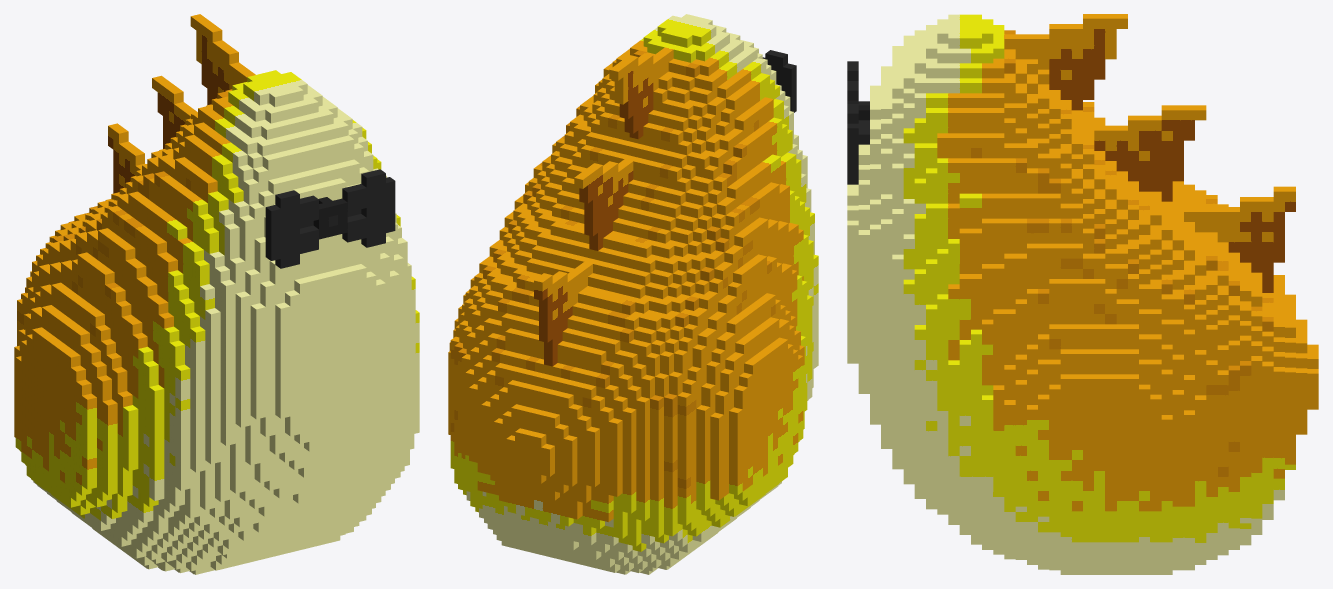
The model's file is black bow tie.gltf.
3 renders of one model, left to right at view 1: azimuth 30°, elevation 25°; view 2: azimuth 150°, elevation 25°; view 3: azimuth 270°, elevation 25°, orthographic. The views are drawn at different scales.
Visible parts, largest first — view 1: 01_Body_BowTie-Mesh; view 2: 01_Body_BowTie-Mesh; view 3: 01_Body_BowTie-Mesh.
Part boxes in pixels (box(x1,y1,x2,y2)): 01_Body_BowTie-Mesh: box(14, 14, 419, 574); 01_Body_BowTie-Mesh: box(448, 14, 818, 574); 01_Body_BowTie-Mesh: box(847, 14, 1318, 574).
Bounding box in the file's own units: 33 × 51 × 42.
Materials: 1 (1 with a texture image).
